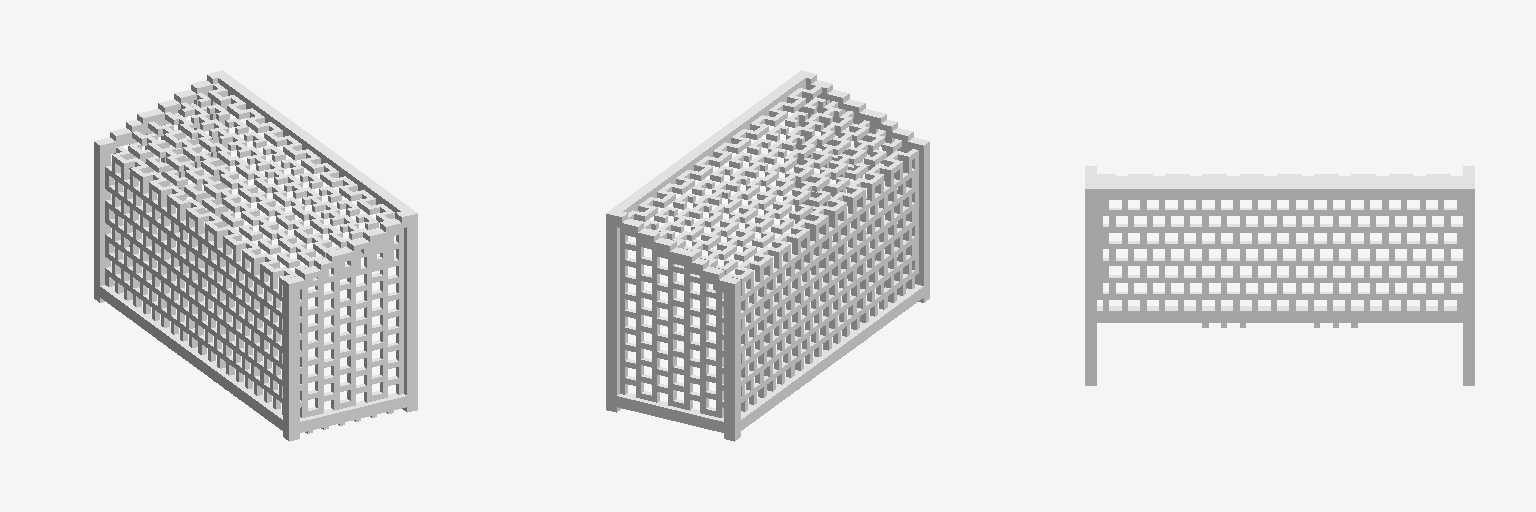
Rendered from Goal.obj.
The picture shows the model from 3 angles: view 1: azimuth 30°, elevation 25°; view 2: azimuth 150°, elevation 25°; view 3: azimuth 270°, elevation 25°; orthographic projection.
Parts seen in each view (by area): view 1: object 1; view 2: object 1; view 3: object 1.
Part boxes in pixels (x1,y1,x2,y2): object 1: (94, 70, 417, 441); object 1: (606, 70, 929, 441); object 1: (1085, 166, 1474, 385).
Bounding box in the file's own units: 2.4 × 3.5 × 6.3.